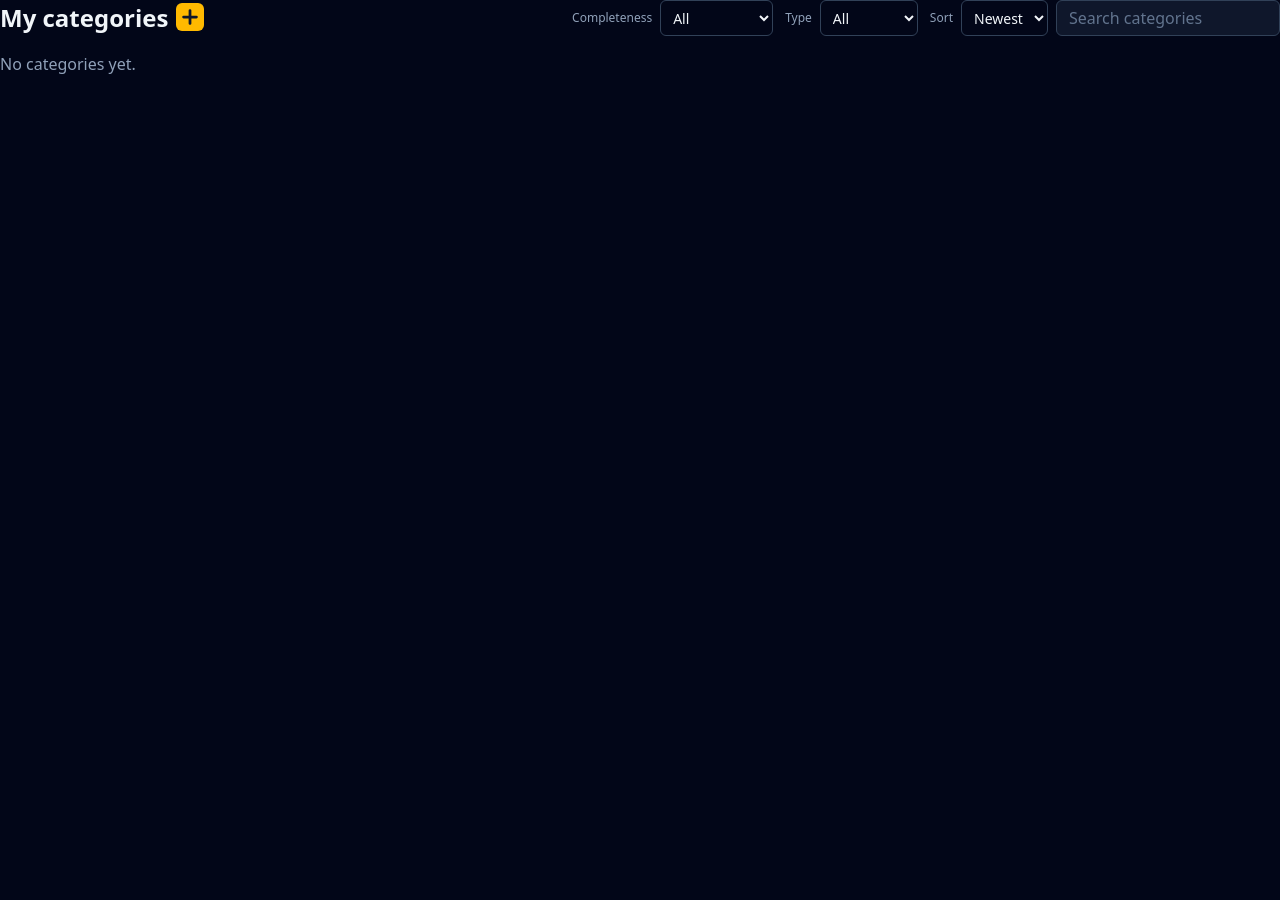
Scenario: CategoriesPage › opens the new category dialog from the labelled plus button
Click the button named "New category" at (190, 16), box x1=176 y1=2 x2=204 y2=30
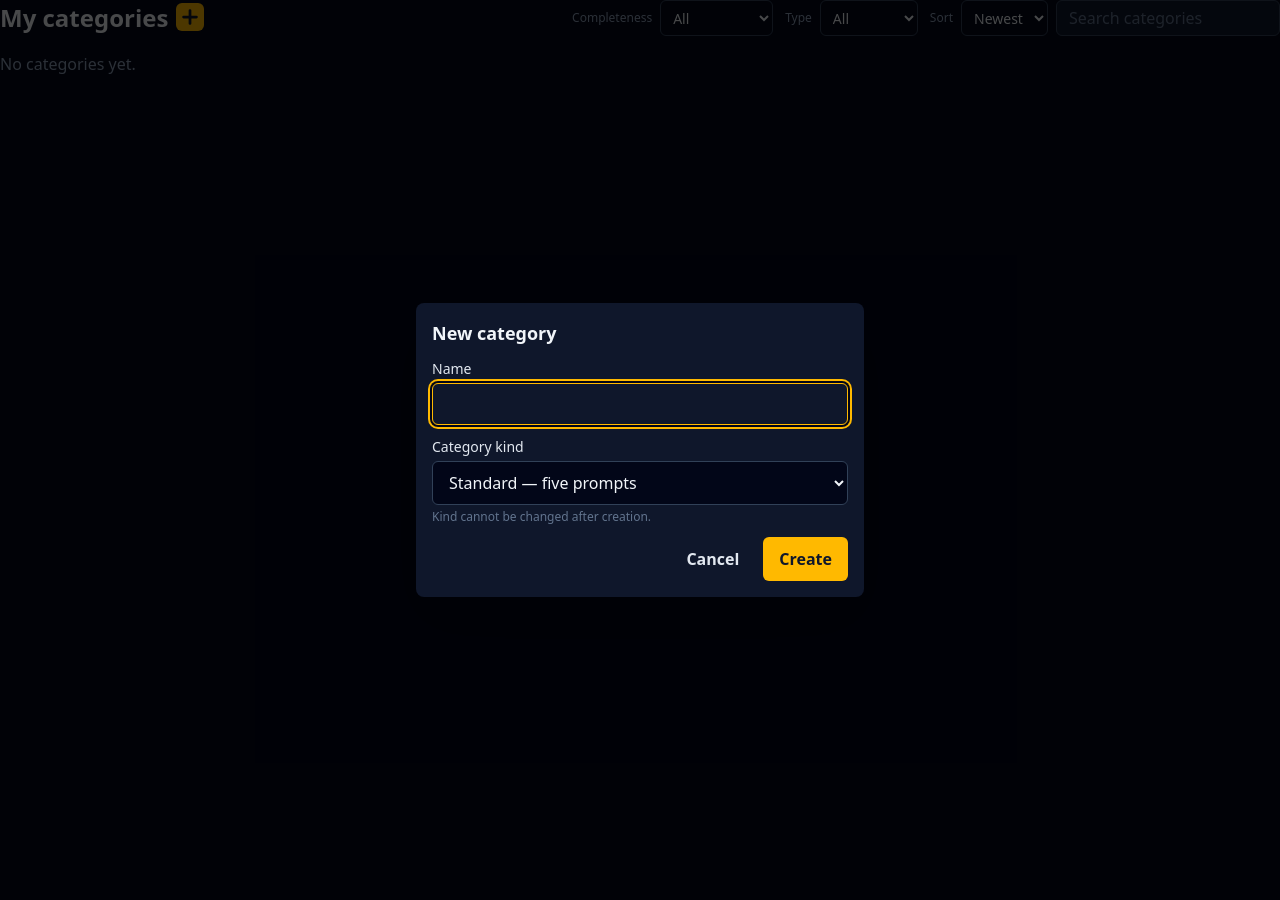
Expected: the dialog shows "New category", x1=432 y1=321 x2=556 y2=345
